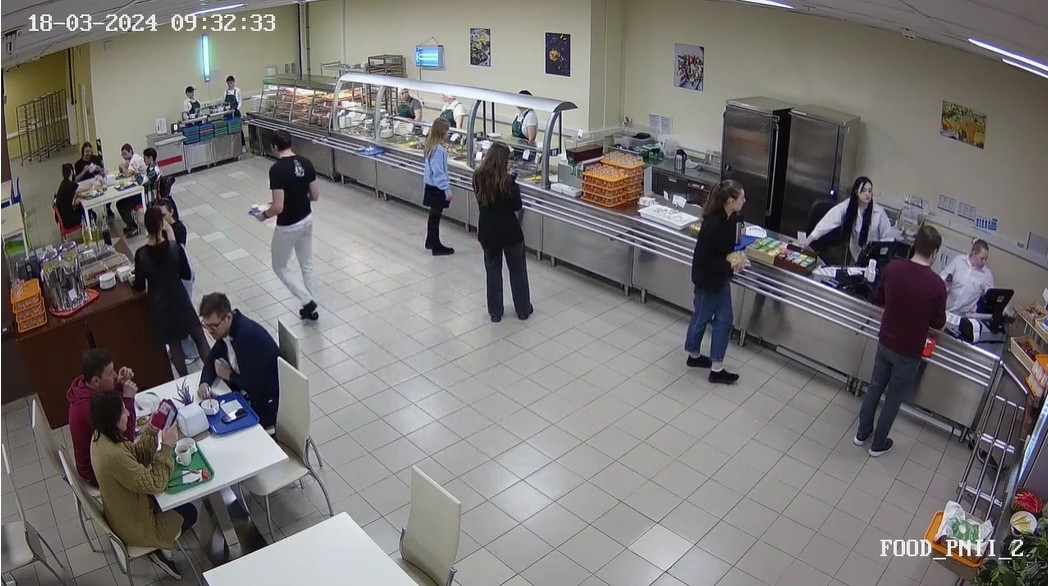Na_Kasse: (789, 210, 970, 453), (686, 175, 746, 396)
Ne_v_Ocheredi: (118, 203, 236, 355), (252, 125, 325, 323)
Personal: (935, 232, 999, 319), (832, 175, 884, 266), (508, 88, 545, 141), (218, 72, 242, 118), (180, 82, 205, 125), (390, 80, 420, 113)
Vybiraet: (468, 137, 540, 328), (406, 112, 460, 259)
Za_Stolom: (87, 390, 183, 542), (191, 290, 285, 426), (52, 346, 114, 474), (50, 162, 83, 229), (74, 137, 110, 179), (140, 147, 167, 200), (115, 137, 144, 179)
